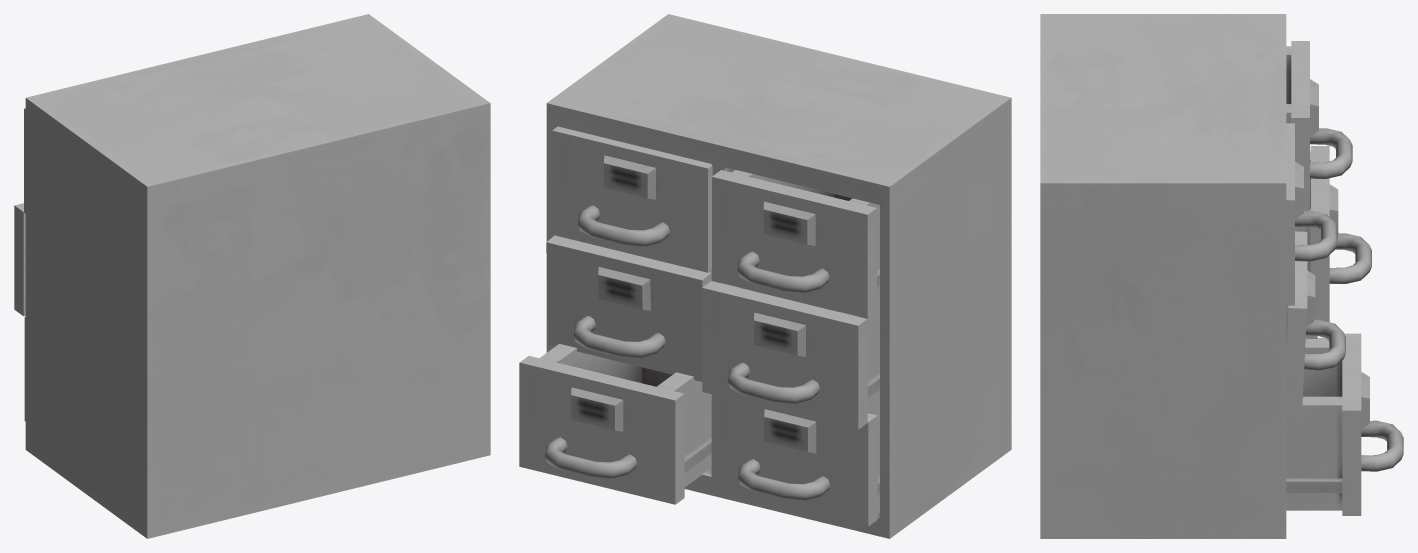
The model's file is Pfb_FileCabient_L3.fbx.
3 renders of one model, left to right at view 1: azimuth 30°, elevation 25°; view 2: azimuth 150°, elevation 25°; view 3: azimuth 270°, elevation 25°, orthographic.
Visible parts, largest first — view 1: Mat_FileCabient 2; view 2: Mat_FileCabient 2; view 3: Mat_FileCabient 2.
Boxes of the visible parts, x1,y1,x2,y2 form: Mat_FileCabient 2: (14, 14, 490, 538); Mat_FileCabient 2: (519, 14, 1011, 538); Mat_FileCabient 2: (1040, 14, 1403, 538).
Size of the model in its own units: 1.25 by 1.23 by 1.14.
Materials: 1 (1 with a texture image).
